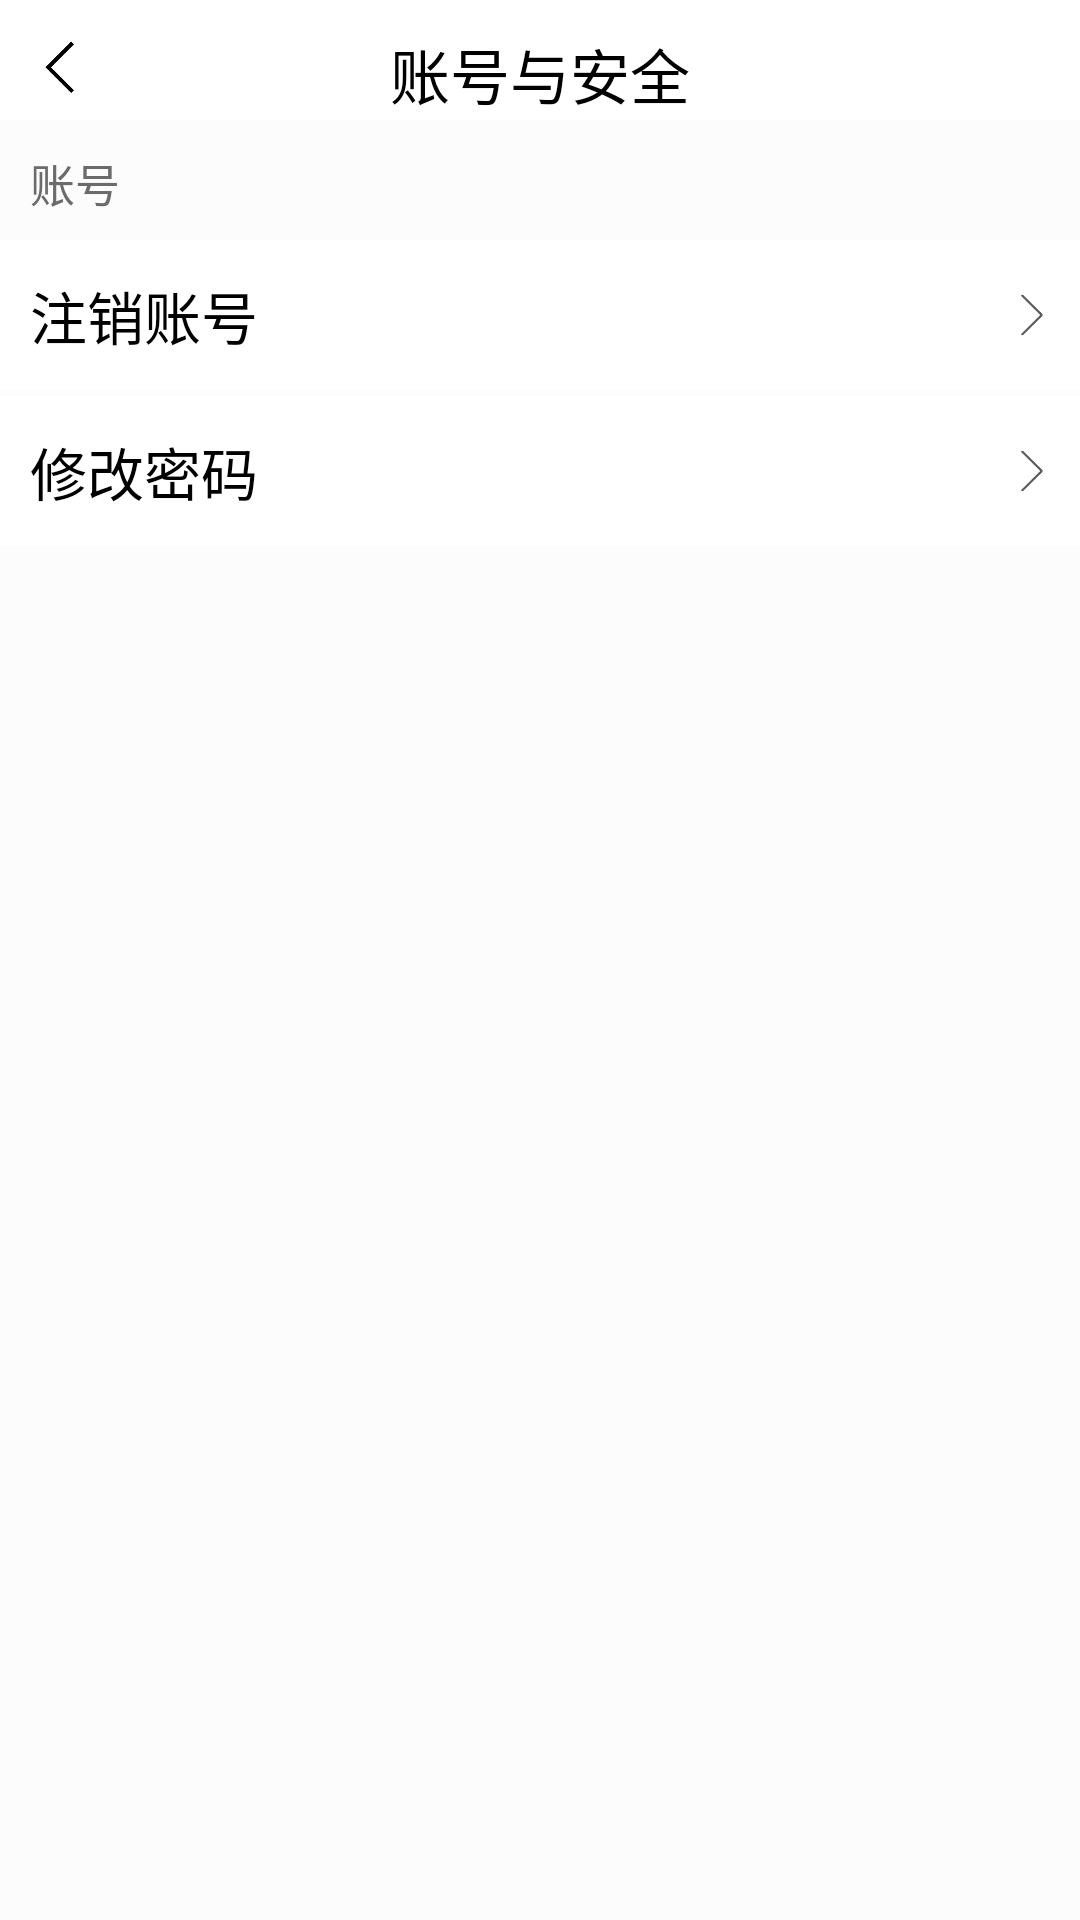

Point at icon controls on the screen. Image size 1080×1920, points as (x=x, y=y).
goto: (x=1032, y=315), (x=1032, y=471)
return: (x=59, y=67)
